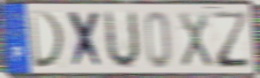0: (143, 9, 173, 71)
D: (28, 9, 68, 71)
U: (104, 8, 142, 71)
X: (66, 9, 106, 71), (177, 10, 215, 69)
Z: (210, 9, 252, 70)
